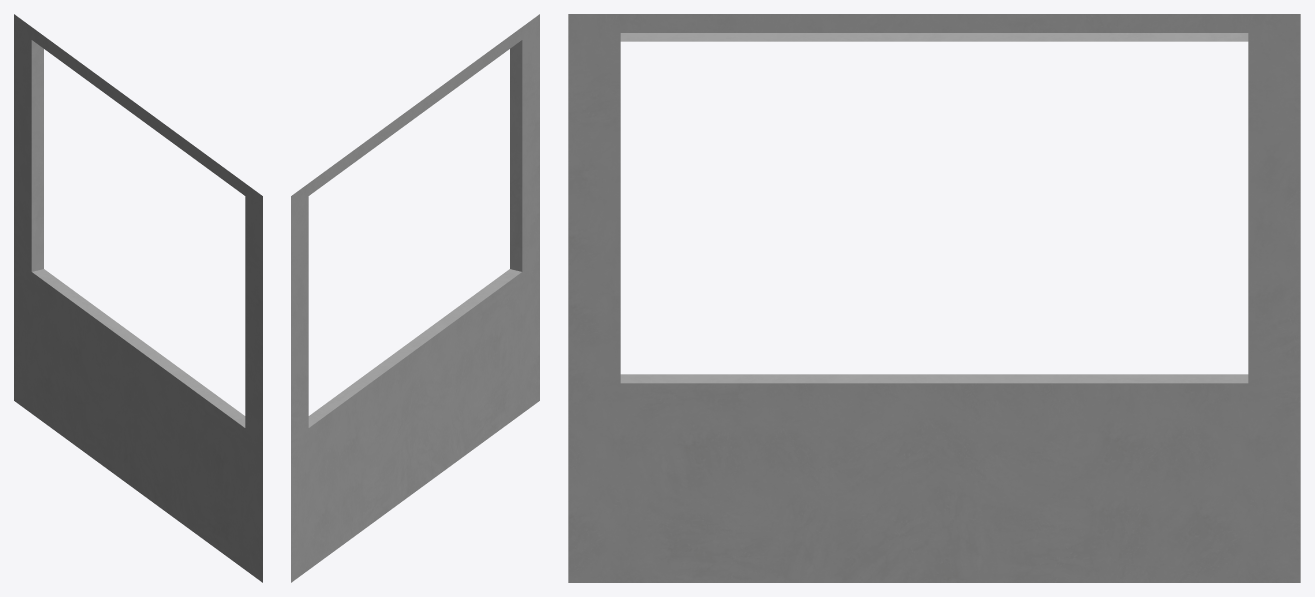
Rendered from SM_GenericWall_01_350_Window.fbx.
3 views of the same model, side by side, from view 1: azimuth 30°, elevation 25°; view 2: azimuth 150°, elevation 25°; view 3: azimuth 270°, elevation 25° (orthographic). The views are drawn at different scales.
Visible parts, largest first — view 1: SM_GenericWall_01_350_Window_LOD0; view 2: SM_GenericWall_01_350_Window_LOD0; view 3: SM_GenericWall_01_350_Window_LOD0.
Boxes of the visible parts, left/top/right/bottom form: SM_GenericWall_01_350_Window_LOD0: left=14, top=14, right=262, bottom=582; SM_GenericWall_01_350_Window_LOD0: left=291, top=14, right=539, bottom=582; SM_GenericWall_01_350_Window_LOD0: left=568, top=14, right=1300, bottom=582.
Bounding box in the file's own units: 10 × 350 × 300.
